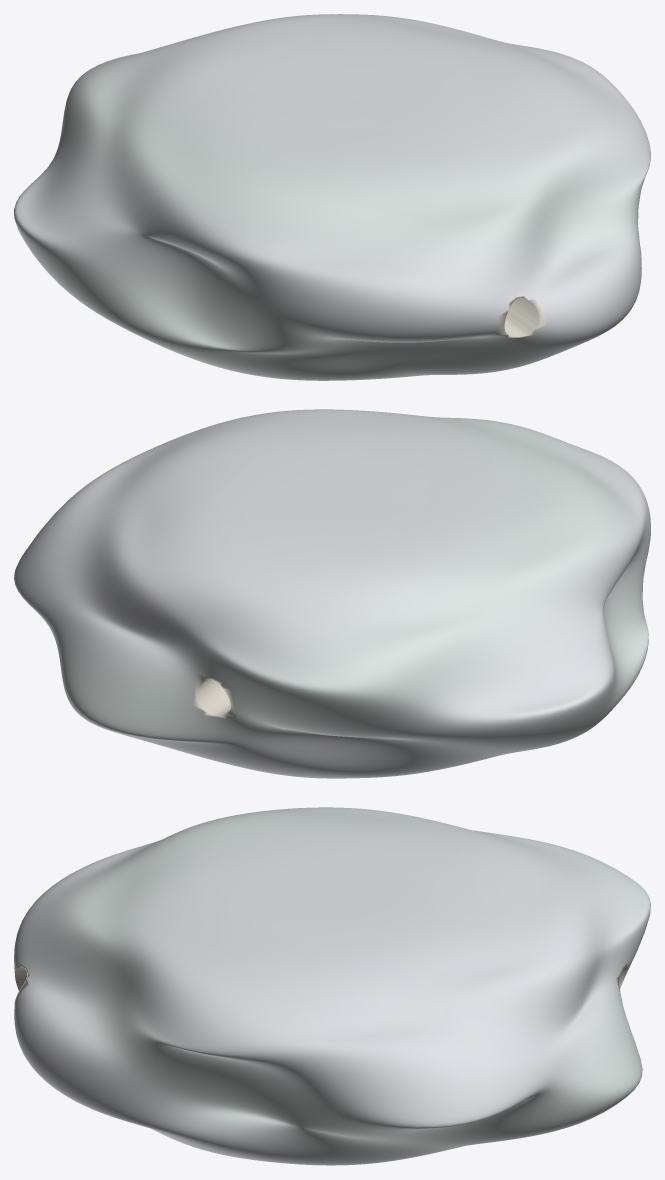
File: pearl-ref-19.glb
The picture shows the model from 3 angles, top to bottom: view 1: azimuth 30°, elevation 25°; view 2: azimuth 150°, elevation 25°; view 3: azimuth 270°, elevation 25°; orthographic projection. The views are drawn at different scales.
Parts seen in each view (by area): view 1: pearl-ref-19; view 2: pearl-ref-19; view 3: pearl-ref-19.
Boxes of the visible parts, x1,y1,x2,y2 form: pearl-ref-19: [14, 14, 650, 380]; pearl-ref-19: [14, 409, 650, 778]; pearl-ref-19: [14, 807, 650, 1165].
Size of the model in its own units: 0.0133 by 0.0045 by 0.013.
2 materials, 1 textured.
